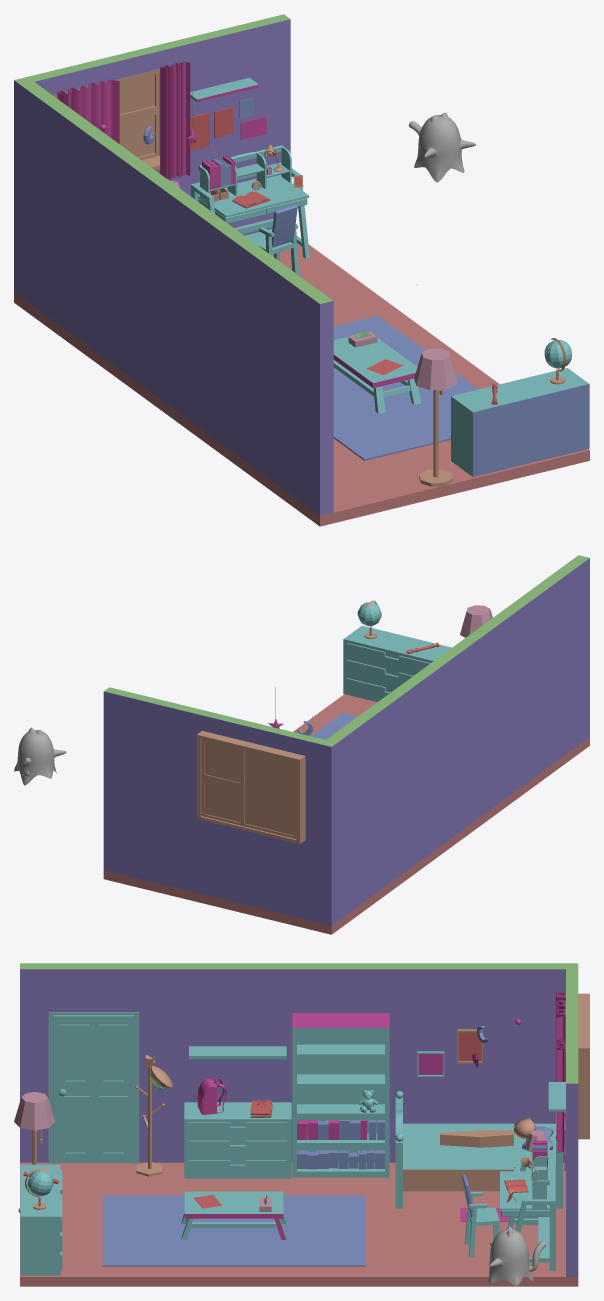
The model's file is MDL_room_lam_0815.fbx.
3 views of the same model, one above another, from view 1: azimuth 30°, elevation 25°; view 2: azimuth 150°, elevation 25°; view 3: azimuth 270°, elevation 25° (orthographic). The views are drawn at different scales.
Visible parts, largest first — view 1: MDL_Room_geo, MDL_chestB_geo, MDL_carpet_geo, MDL_katenR_geo, MDL_lowtable_geo, MDL_windows10_geo2, polySurface2, MDL_kinokolight_geo, MDL_katenL_geo, MDL_Desk_desk_geo, MDL_Desk_saku_geo, pCube29 (+2 smaller); view 2: MDL_Room_geo, MDL_windows10_geo2, MDL_chestB_geo, MDL_madokabe_geo, polySurface2, MDL_kinokolight_geo, MDL_carpet_geo; view 3: MDL_Room_geo, MDL_carpet_geo, MDL_tansu_geo, MDL_door_geo, MDL_Bed_geo, MDL_chestA_geo, MDL_chestB_geo, MDL_lowtable_geo, polySurface2, MDL_doorwaku_geo, MDL_Desk_hone_geo, MDL_madokabe_geo (+15 smaller).
Boxes of the visible parts, bbox=[...] form: MDL_Room_geo: bbox=[14, 14, 589, 526]; MDL_chestB_geo: bbox=[451, 368, 589, 476]; MDL_carpet_geo: bbox=[333, 315, 478, 460]; MDL_katenR_geo: bbox=[160, 61, 190, 179]; MDL_lowtable_geo: bbox=[333, 332, 420, 413]; MDL_windows10_geo2: bbox=[119, 73, 159, 159]; polySurface2: bbox=[408, 112, 475, 182]; MDL_kinokolight_geo: bbox=[414, 348, 457, 486]; MDL_katenL_geo: bbox=[57, 79, 119, 143]; MDL_Desk_desk_geo: bbox=[198, 174, 309, 217]; MDL_Desk_saku_geo: bbox=[198, 145, 291, 201]; pCube29: bbox=[251, 204, 298, 275]; MDL_Room_geo: bbox=[103, 555, 589, 934]; MDL_windows10_geo2: bbox=[201, 739, 296, 838]; MDL_chestB_geo: bbox=[343, 625, 451, 701]; MDL_madokabe_geo: bbox=[196, 731, 305, 843]; polySurface2: bbox=[14, 727, 66, 785]; MDL_kinokolight_geo: bbox=[460, 605, 492, 637]; MDL_carpet_geo: bbox=[311, 712, 357, 739]; MDL_Room_geo: bbox=[20, 963, 578, 1286]; MDL_carpet_geo: bbox=[102, 1195, 365, 1266]; MDL_tansu_geo: bbox=[292, 1013, 389, 1177]; MDL_door_geo: bbox=[53, 1015, 134, 1163]; MDL_Bed_geo: bbox=[395, 1090, 562, 1208]; MDL_chestA_geo: bbox=[184, 1102, 291, 1178]; MDL_chestB_geo: bbox=[20, 1164, 62, 1275]; MDL_lowtable_geo: bbox=[181, 1191, 286, 1239]; polySurface2: bbox=[488, 1226, 546, 1285]; MDL_doorwaku_geo: bbox=[48, 1012, 139, 1163]; MDL_Desk_hone_geo: bbox=[507, 1160, 555, 1270]; MDL_madokabe_geo: bbox=[578, 993, 589, 1139].
Size of the model in its own units: 4.9 by 2.52 by 6.48.
